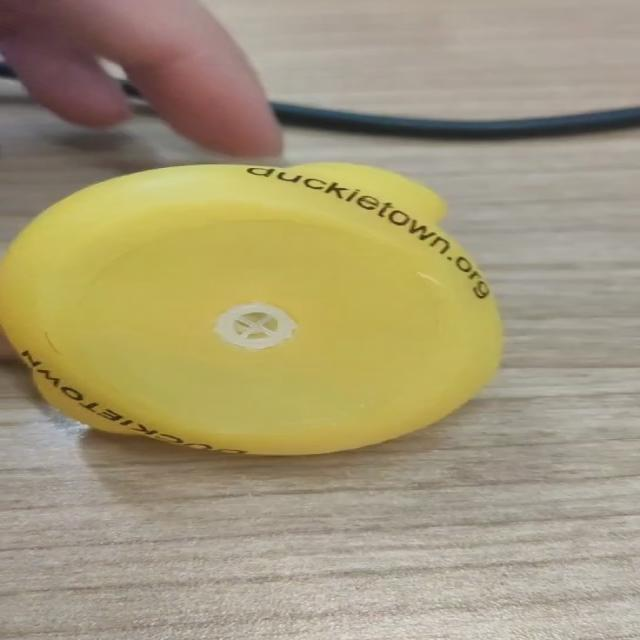rubber-duck: (0, 162, 500, 452)
